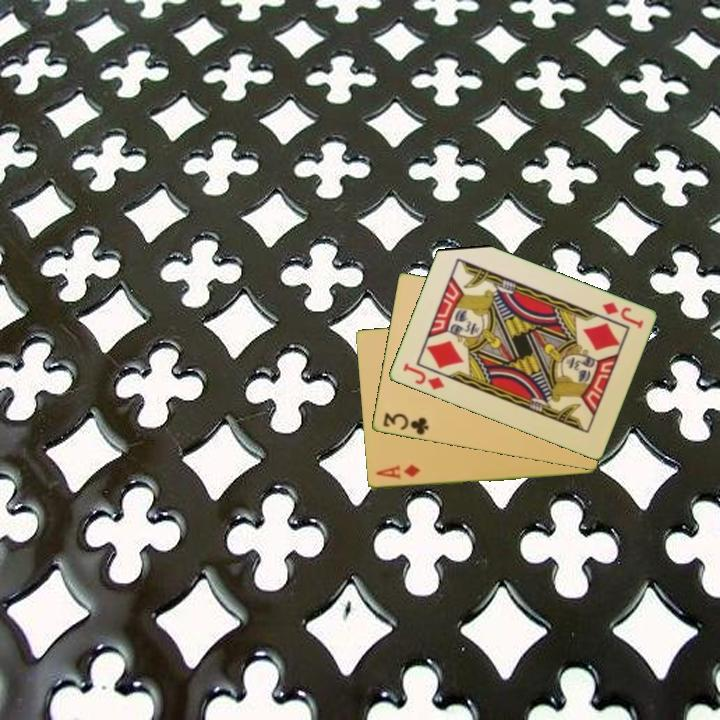3c: (379, 409, 431, 438)
Ad: (372, 461, 423, 483)
Jd: (399, 360, 447, 393), (598, 299, 646, 332)
